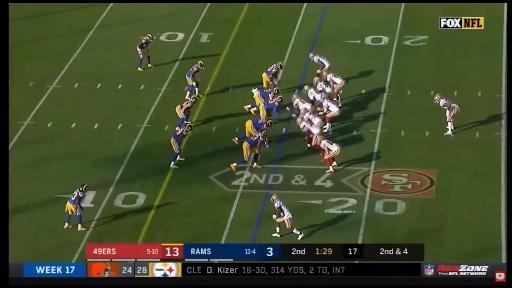Helmet: (313, 134, 325, 144), (79, 184, 89, 192), (265, 119, 273, 129), (184, 122, 192, 131), (321, 70, 329, 79), (296, 115, 303, 125), (276, 62, 284, 70), (275, 95, 283, 103), (313, 77, 320, 86), (196, 61, 204, 68), (190, 95, 197, 103), (271, 194, 278, 202), (434, 94, 441, 102), (303, 85, 310, 93), (291, 94, 298, 102), (273, 87, 280, 94), (145, 33, 153, 39), (308, 53, 314, 59), (261, 131, 266, 138)
Jersey: (275, 201, 293, 219), (293, 97, 311, 113), (300, 121, 320, 133), (70, 189, 85, 204), (246, 134, 262, 148), (264, 98, 280, 112), (320, 139, 339, 150), (174, 127, 188, 141), (187, 64, 200, 79), (252, 118, 267, 131), (138, 38, 153, 50), (314, 56, 330, 67), (259, 88, 276, 98), (324, 100, 338, 112), (266, 65, 281, 76), (317, 82, 331, 93), (308, 89, 321, 100), (181, 100, 195, 110), (328, 74, 342, 83), (306, 113, 320, 122), (440, 98, 454, 106)
Player: (271, 194, 304, 240), (230, 131, 266, 170), (64, 184, 88, 231), (169, 123, 193, 168), (313, 135, 341, 172), (232, 118, 273, 143), (434, 94, 459, 135), (297, 112, 321, 147), (244, 87, 279, 111), (175, 96, 197, 131), (185, 61, 203, 99), (258, 95, 283, 121), (322, 71, 345, 98), (137, 33, 153, 71), (262, 62, 283, 89), (322, 98, 339, 131), (308, 53, 331, 77), (313, 77, 331, 94), (304, 86, 322, 102), (292, 94, 310, 110), (305, 112, 323, 128)
